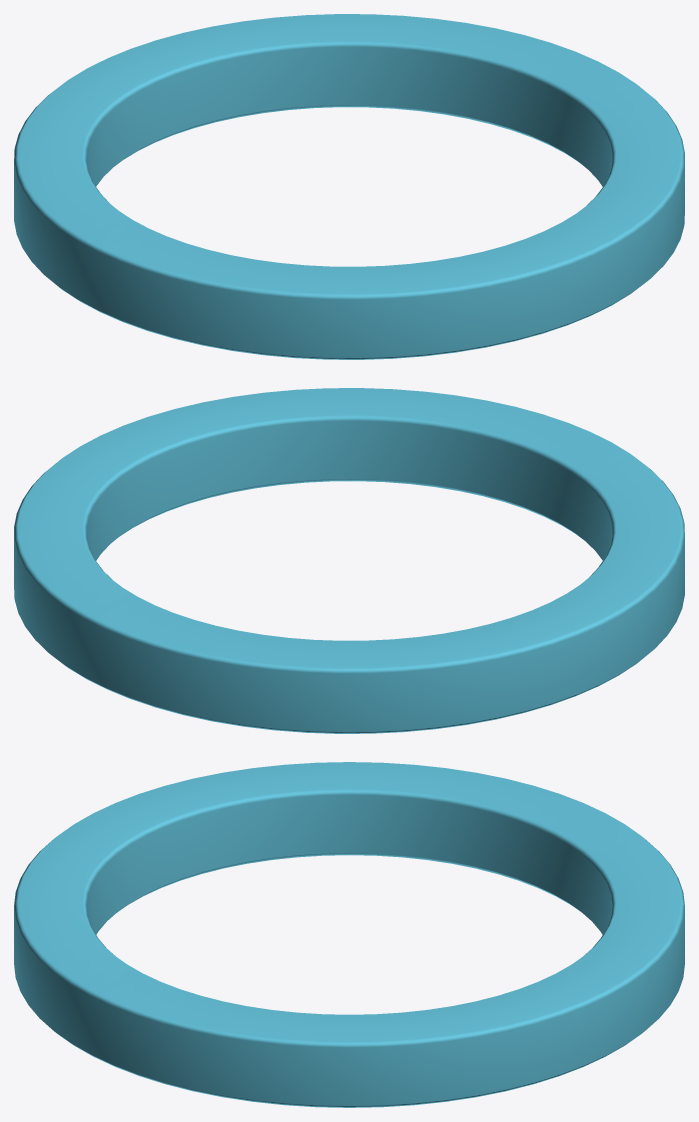
3 views of the same model, one above another, from view 1: azimuth 30°, elevation 25°; view 2: azimuth 150°, elevation 25°; view 3: azimuth 270°, elevation 25° (orthographic).
Visible parts, largest first — view 1: seal_body; view 2: seal_body; view 3: seal_body.
Part boxes in pixels (x1,y1,x2,y2): seal_body: (14,14,684,359); seal_body: (14,388,684,733); seal_body: (14,762,684,1107).
Size of the model in its own units: 0.073 by 0.00793 by 0.073.
